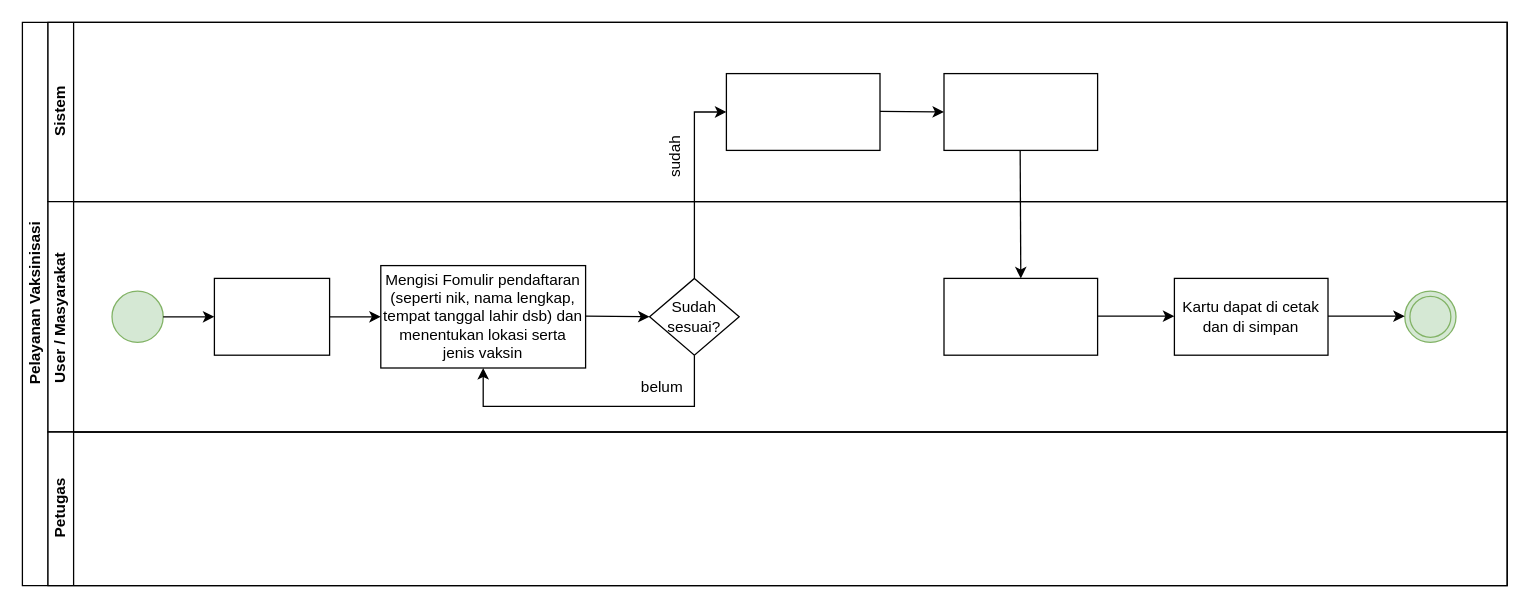
This 1530x608 diagram has some shape labels left out. The shapes that lost their labels are listed below. From the top down, each one's centre as x and y in pixels, then its label:
the point at 802,111: Memproses pendaftaran
the point at 1020,111: Mengkonfirmasi melalui Email / SMS
the point at 271,316: Login menggunakan akun yang sudah terdaftar
the point at 1020,316: Menerima hasil konfirmasi
